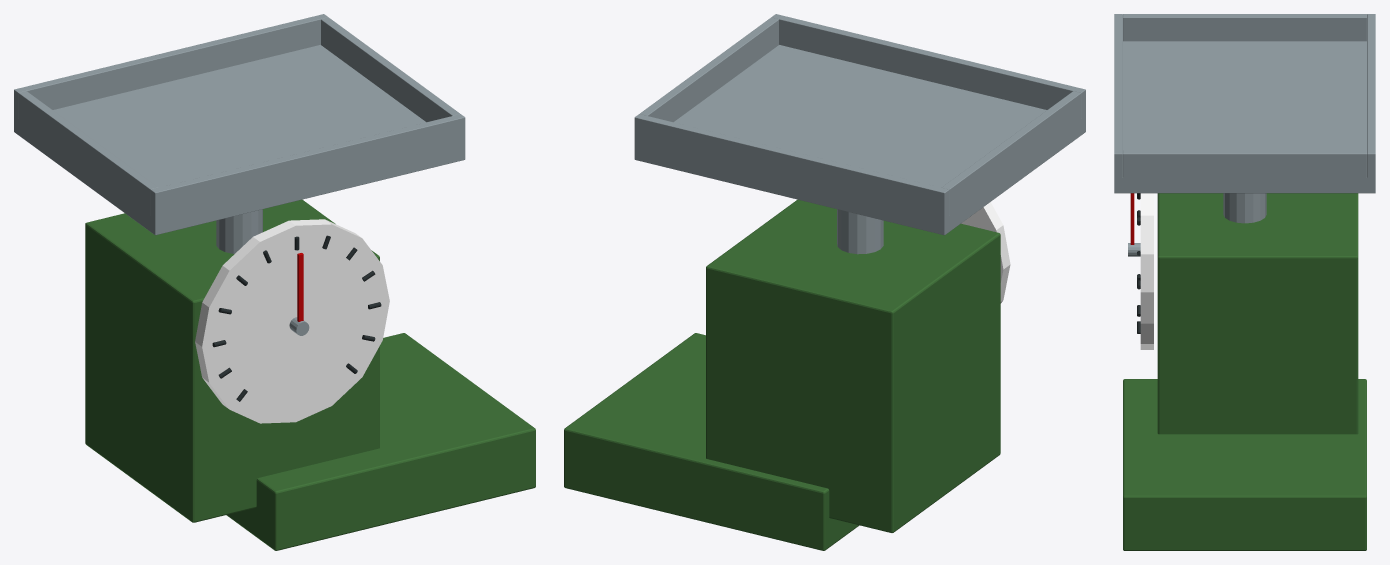
The model's file is source-edit.glb.
The picture shows the model from 3 angles, left to right: view 1: azimuth 30°, elevation 25°; view 2: azimuth 150°, elevation 25°; view 3: azimuth 270°, elevation 25°; orthographic projection. The views are drawn at different scales.
Parts seen in each view (by area): view 1: Housing, Platform, Base, Dial, Pan_Lip, Pan_Lip.001, Pan_Lip.002, Pan_Lip.003, Spring_Column; view 2: Housing, Platform, Base, Pan_Lip.001, Pan_Lip, Pan_Lip.002, Pan_Lip.003, Spring_Column, Dial; view 3: Housing, Base, Platform, Pan_Lip.003, Pan_Lip.002, Dial, Pan_Lip, Pan_Lip.001, Spring_Column.
Part boxes in pixels (bbox=[...]): Housing: bbox=[85, 199, 379, 522]; Platform: bbox=[14, 45, 465, 235]; Base: bbox=[226, 333, 535, 550]; Dial: bbox=[195, 219, 389, 423]; Pan_Lip: bbox=[150, 114, 465, 226]; Pan_Lip.001: bbox=[14, 14, 328, 125]; Pan_Lip.002: bbox=[18, 91, 158, 222]; Pan_Lip.003: bbox=[321, 17, 459, 122]; Spring_Column: bbox=[216, 209, 262, 253]; Housing: bbox=[706, 199, 1000, 532]; Platform: bbox=[634, 45, 1085, 235]; Base: bbox=[564, 333, 859, 550]; Pan_Lip.001: bbox=[634, 114, 949, 226]; Pan_Lip: bbox=[771, 14, 1085, 124]; Pan_Lip.002: bbox=[941, 91, 1081, 222]; Pan_Lip.003: bbox=[640, 17, 778, 122]; Spring_Column: bbox=[837, 209, 883, 254]; Dial: bbox=[961, 202, 1010, 303]; Housing: bbox=[1157, 193, 1358, 434]; Base: bbox=[1123, 379, 1366, 550]; Platform: bbox=[1114, 41, 1375, 193]; Pan_Lip.003: bbox=[1123, 150, 1366, 184]; Pan_Lip.002: bbox=[1123, 14, 1366, 41]; Dial: bbox=[1140, 193, 1153, 349]; Pan_Lip: bbox=[1114, 14, 1122, 184]; Pan_Lip.001: bbox=[1367, 14, 1375, 184]; Spring_Column: bbox=[1223, 193, 1266, 223].
Bounding box in the file's own units: 0.473 × 0.46 × 0.3.
